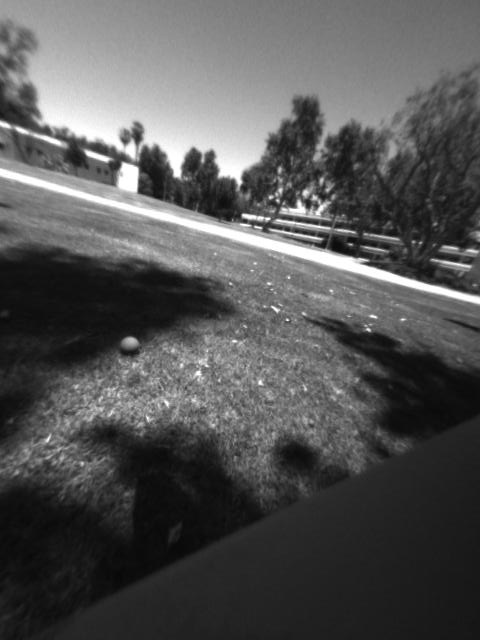dogtoy: (104, 330, 150, 359)
